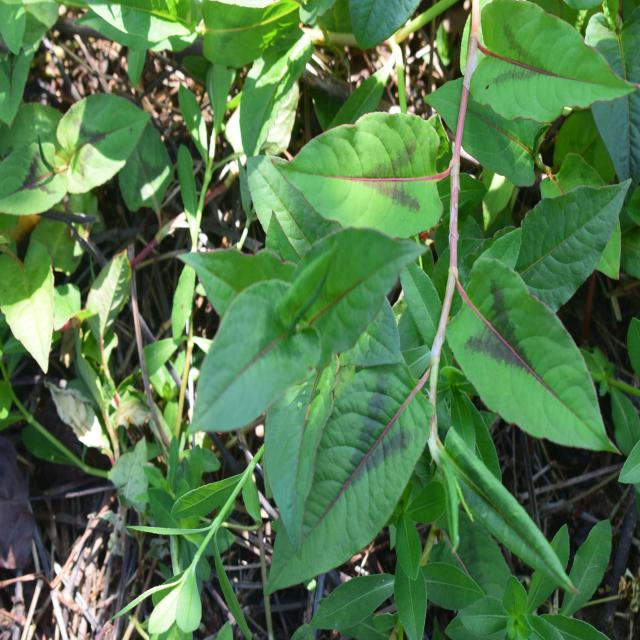Chinese_knotweed: (233, 86, 608, 593)
